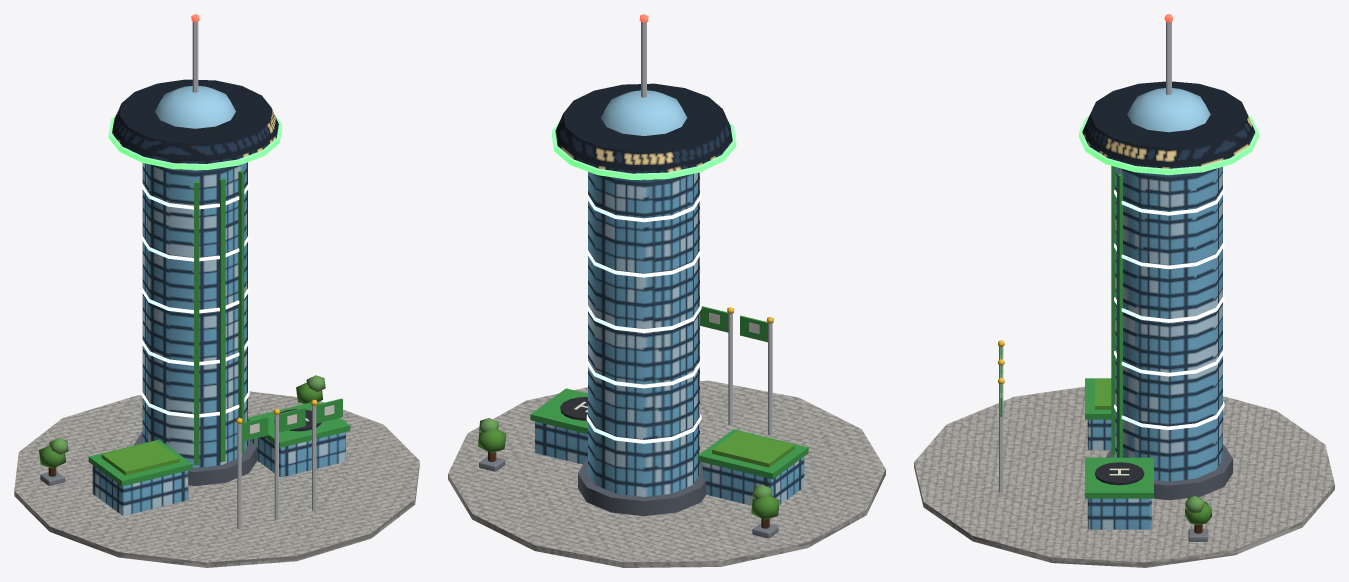
Rendered from residence_dl7_green.glb.
3 views of the same model, side by side, from view 1: azimuth 30°, elevation 25°; view 2: azimuth 150°, elevation 25°; view 3: azimuth 270°, elevation 25° (orthographic). The views are drawn at different scales.
Visible parts, largest first — view 1: residence_dl7_green; view 2: residence_dl7_green; view 3: residence_dl7_green.
Part boxes in pixels (x1=…): residence_dl7_green: x1=14, y1=14, x2=419, y2=567; residence_dl7_green: x1=448, y1=14, x2=885, y2=567; residence_dl7_green: x1=914, y1=14, x2=1334, y2=567.
Size of the model in its own units: 1.71 by 2.08 by 1.71.
Materials: 4 (1 with a texture image).
